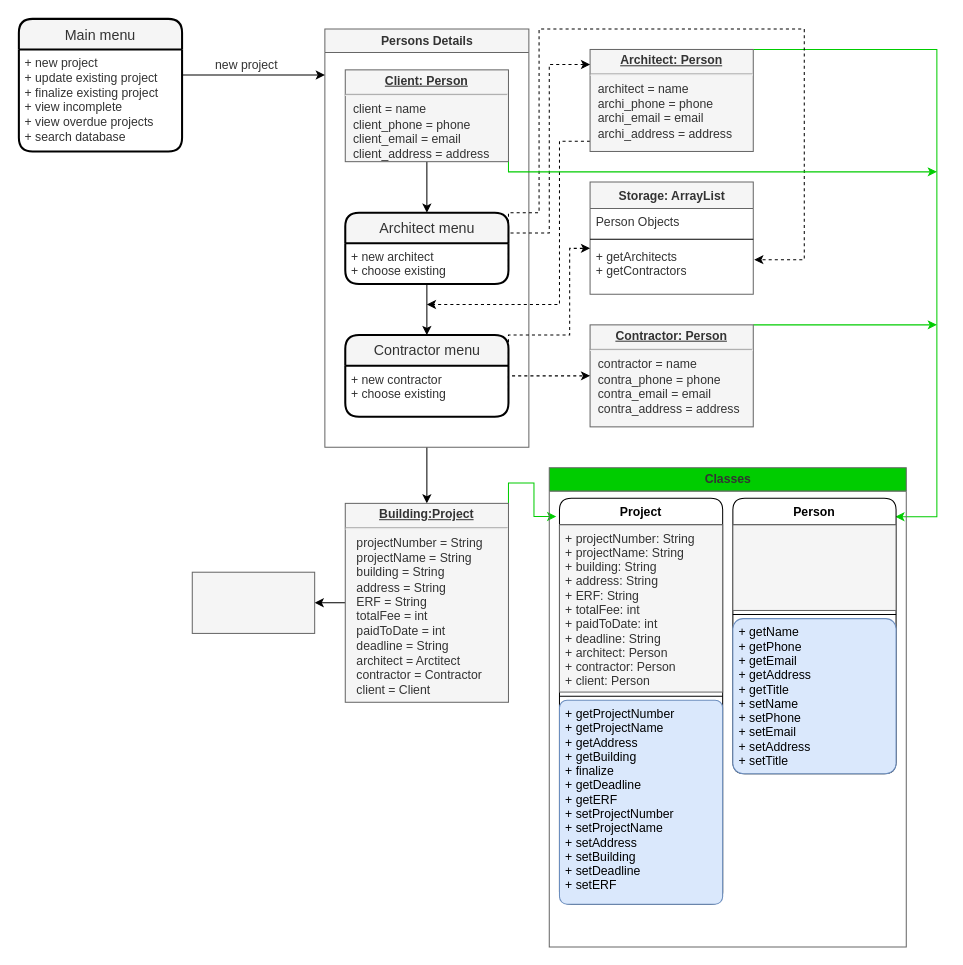
Image size: 963x965. Some labels were removed from this diagram. The shapes that lost their labels are listed below. From the top down, each one's centre as x and y in pixels, then its label:
At point (814, 567): "+ name: String + phone: int + email: String + address: String + title: String".
At point (253, 602): "Add Project to storage".
